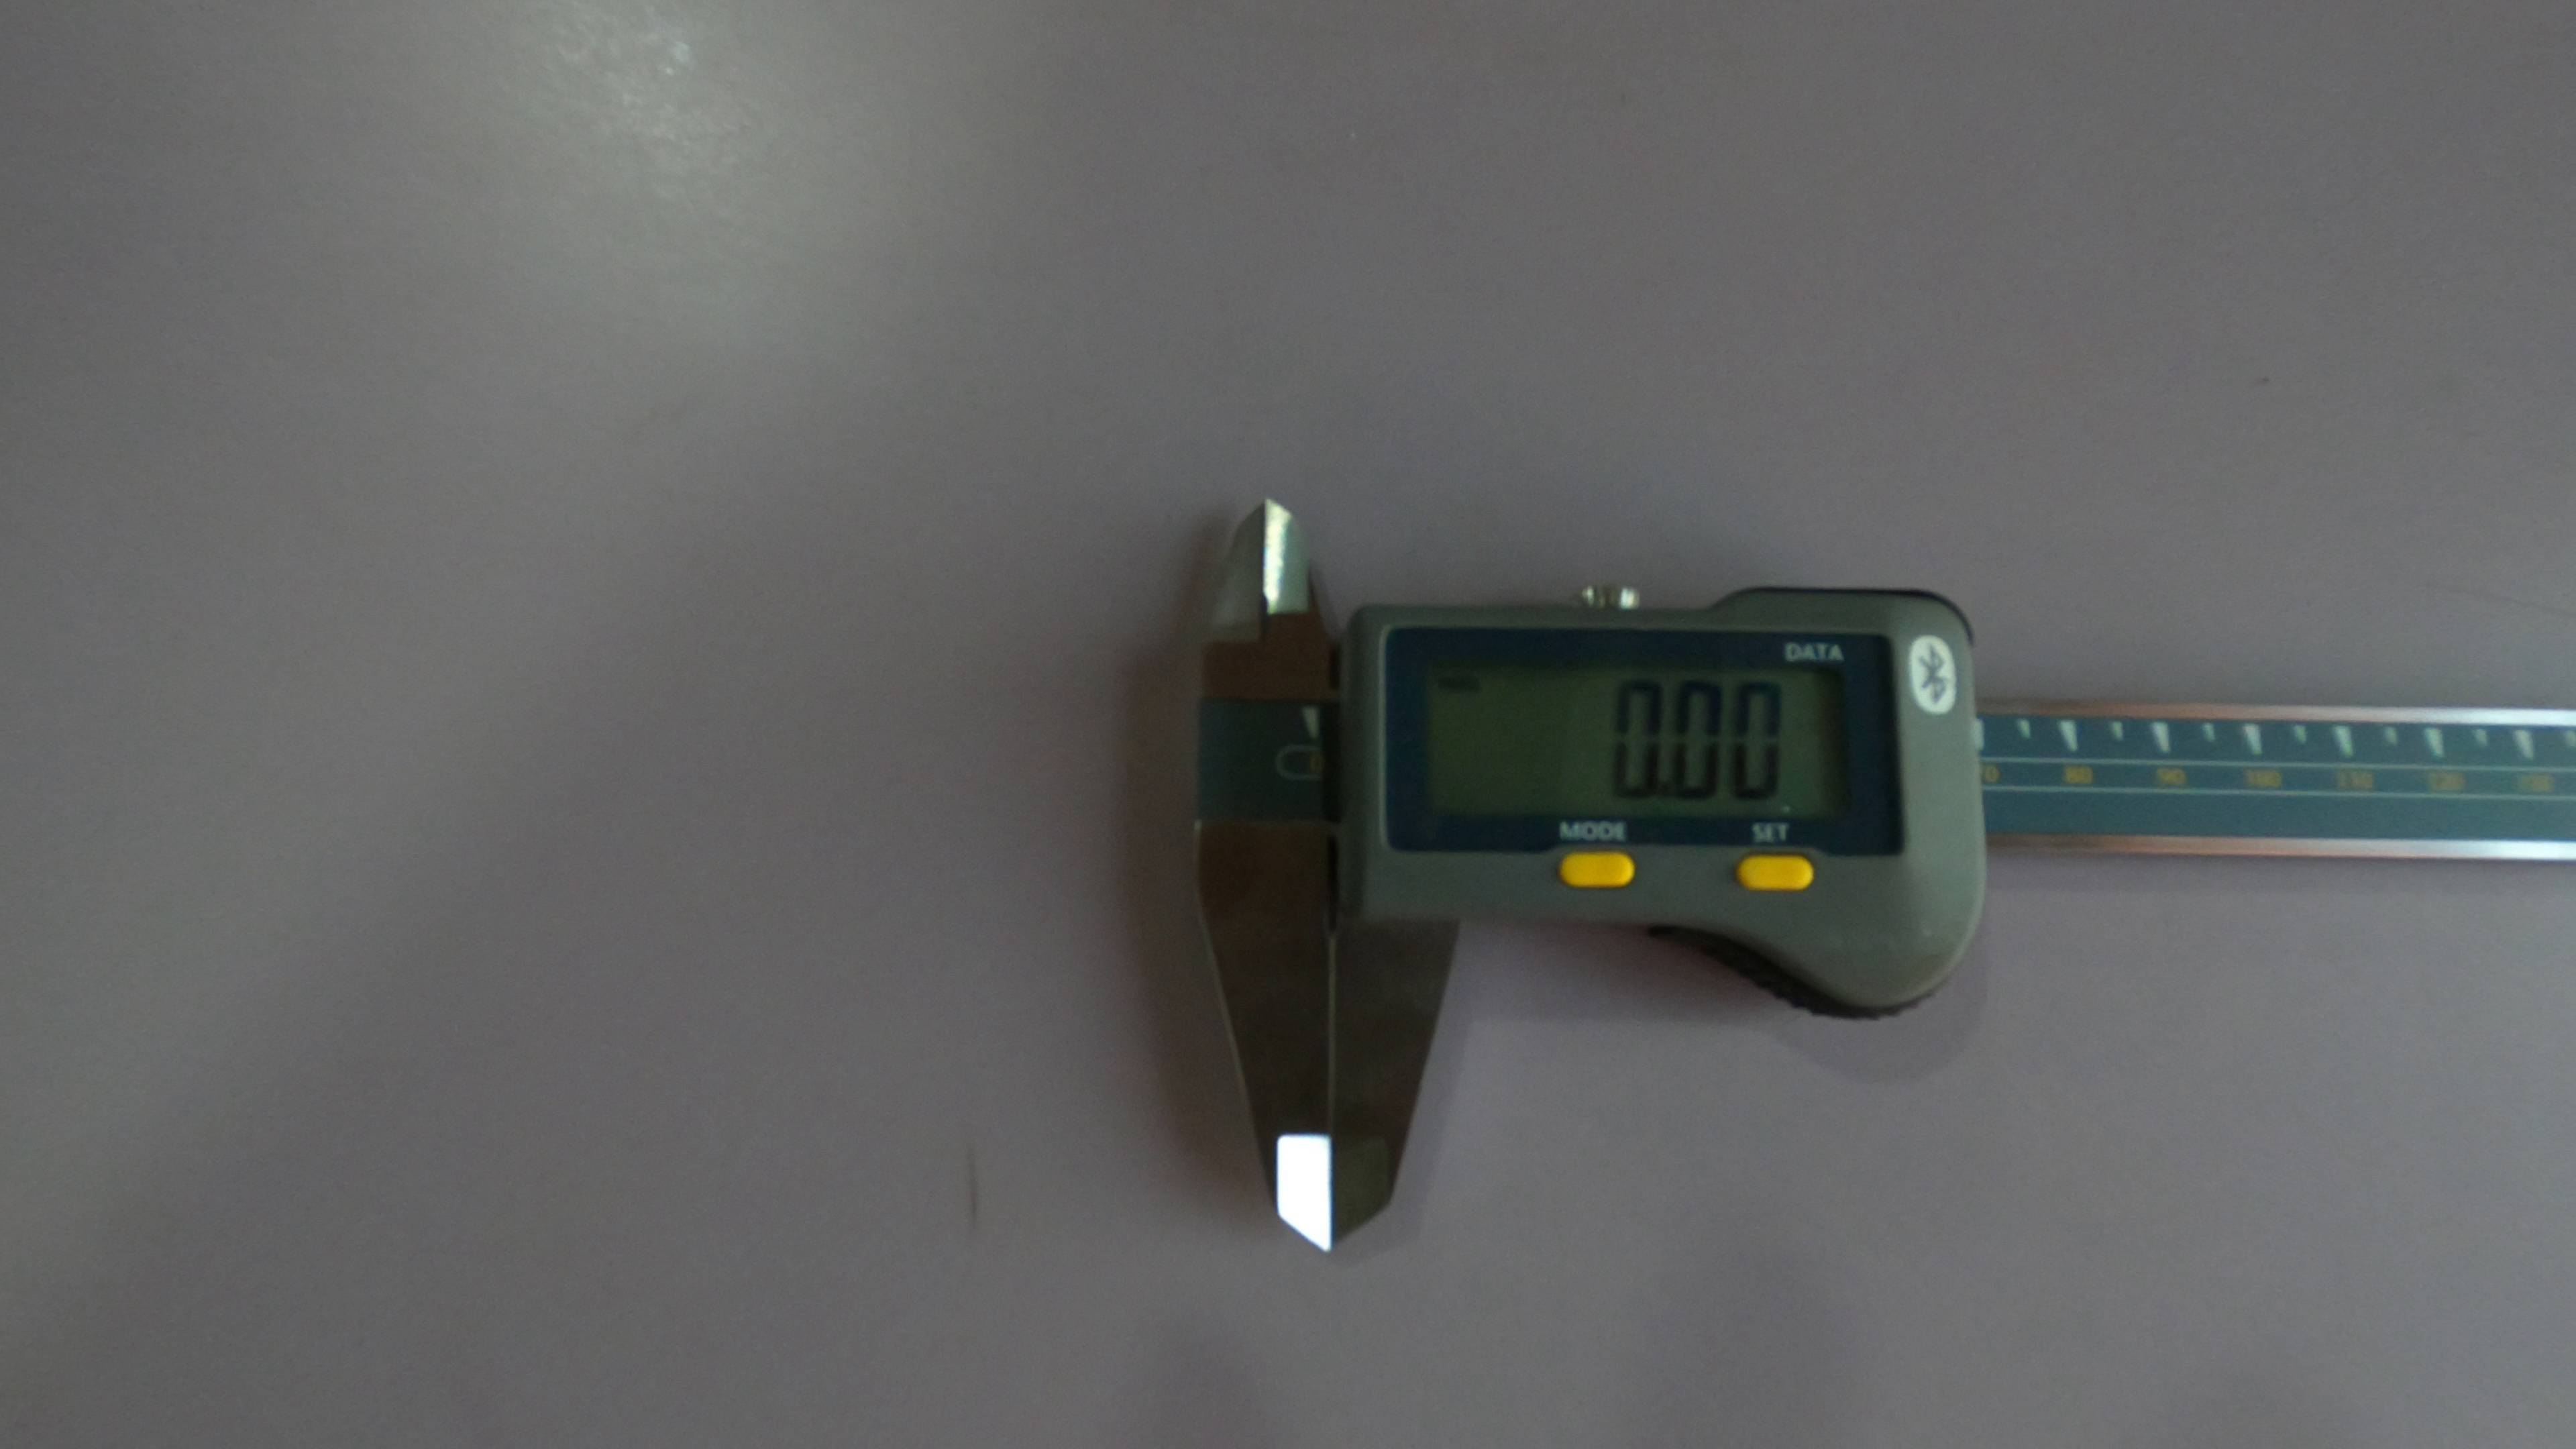vernier_caliper: (1201, 494, 2576, 1253)
